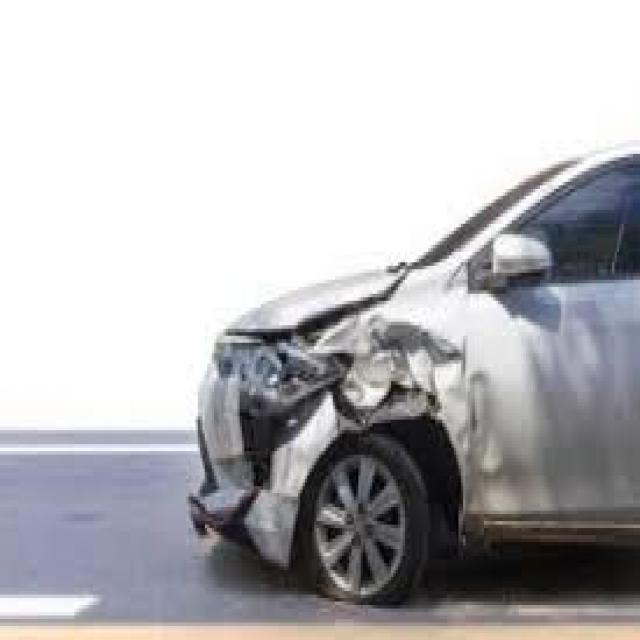accident: (177, 152, 626, 616)
